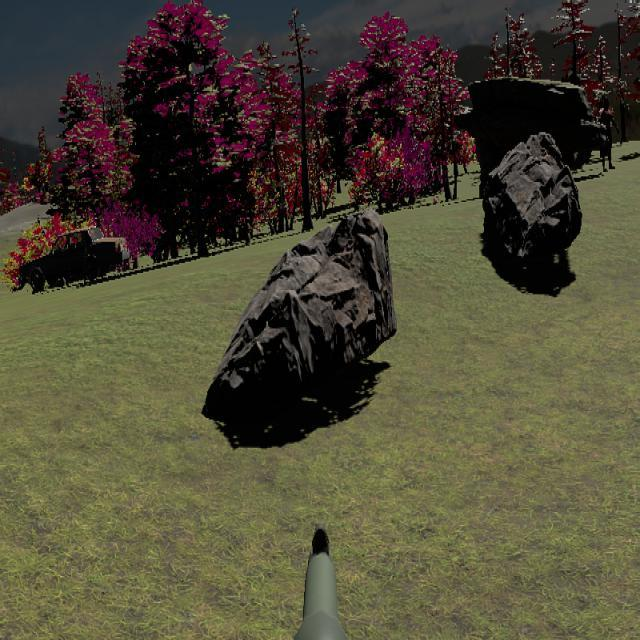car: (17, 225, 128, 291)
